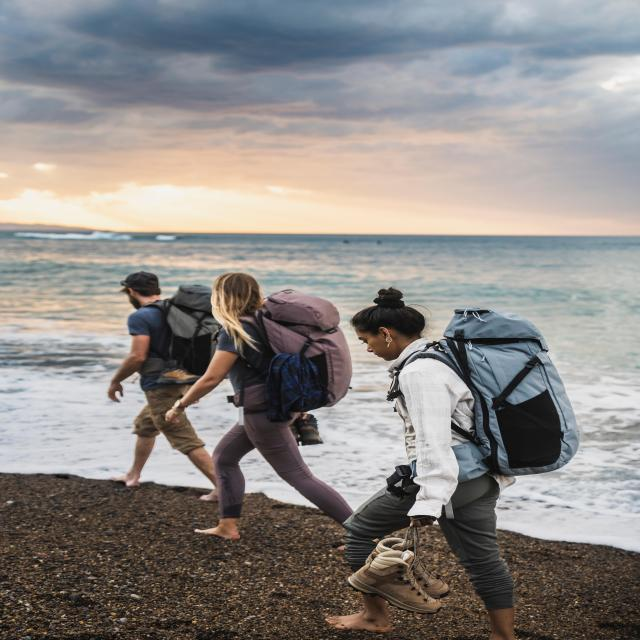backpack: (388, 309, 582, 479), (239, 290, 354, 424), (142, 285, 227, 386)
